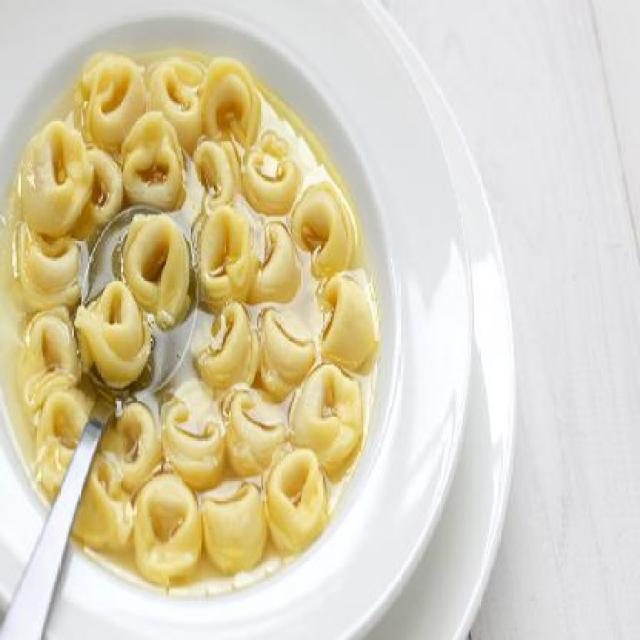Tortellini in broth: (21, 70, 379, 556)
